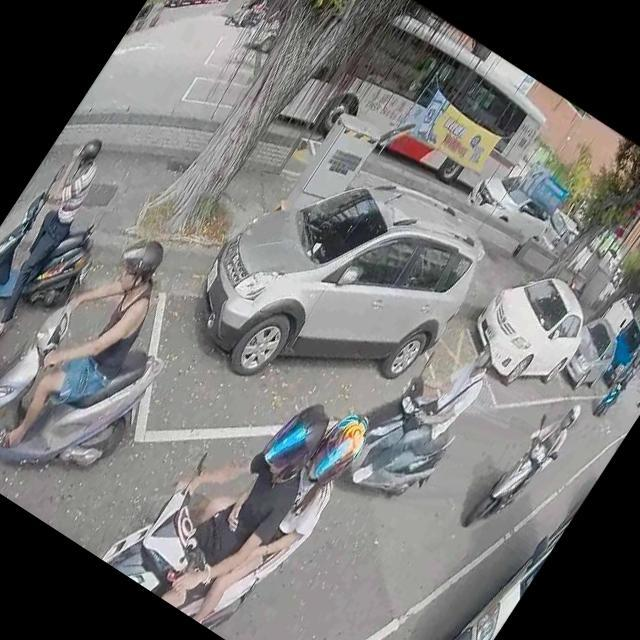person: (111, 353, 352, 632), (149, 368, 384, 640), (0, 208, 195, 483), (346, 306, 516, 518), (0, 127, 124, 354), (479, 388, 587, 526), (595, 365, 636, 420), (231, 0, 263, 28)
